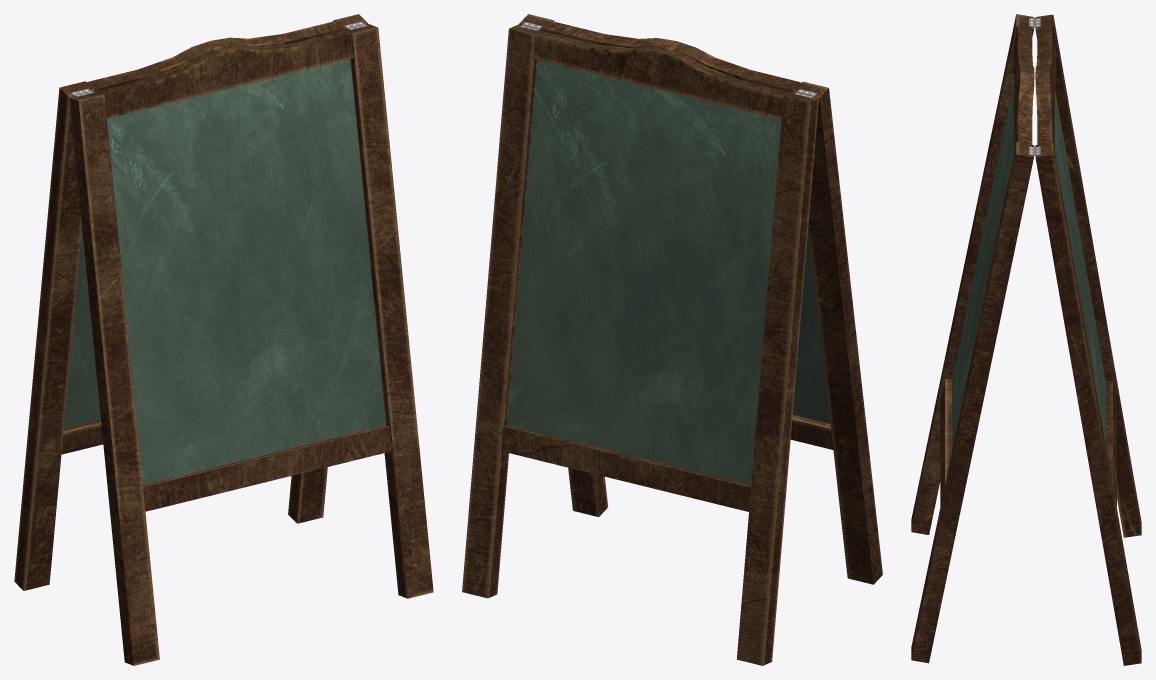
File: MenuBoard.fbx
3 views of the same model, side by side, from view 1: azimuth 30°, elevation 25°; view 2: azimuth 150°, elevation 25°; view 3: azimuth 270°, elevation 25° (orthographic). The views are drawn at different scales.
Parts seen in each view (by area): view 1: MenuBoard; view 2: MenuBoard; view 3: MenuBoard.
Boxes of the visible parts, x1,y1,x2,y2 form: MenuBoard: (14, 14, 433, 665); MenuBoard: (462, 14, 882, 665); MenuBoard: (911, 14, 1141, 665).
Size of the model in its own units: 60.77 by 105 by 41.95.
